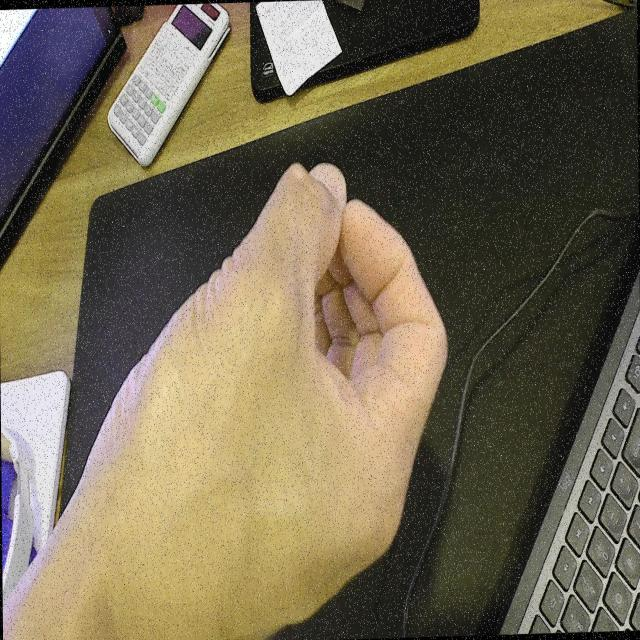O: (101, 151, 456, 631)
